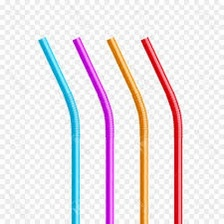drinking_straw: (33, 33, 86, 224), (136, 34, 187, 224), (70, 34, 118, 224), (104, 35, 152, 224)
